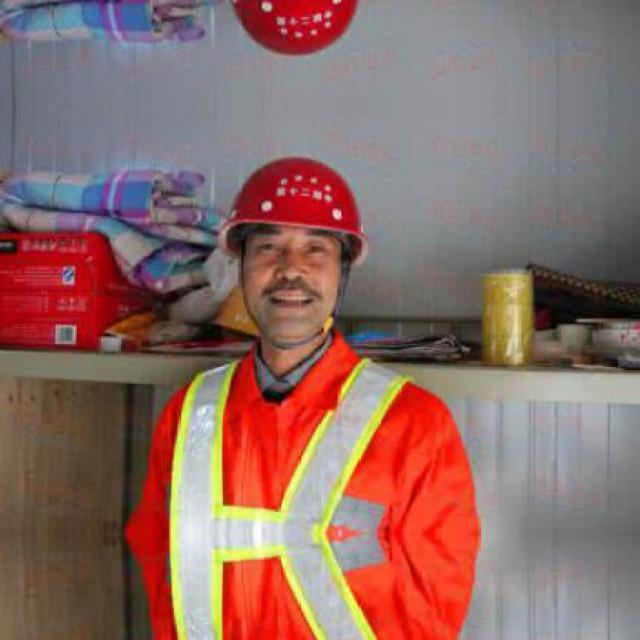Reflective-Jacket: (104, 347, 496, 631)
Safety-Helmet: (197, 146, 391, 270)
